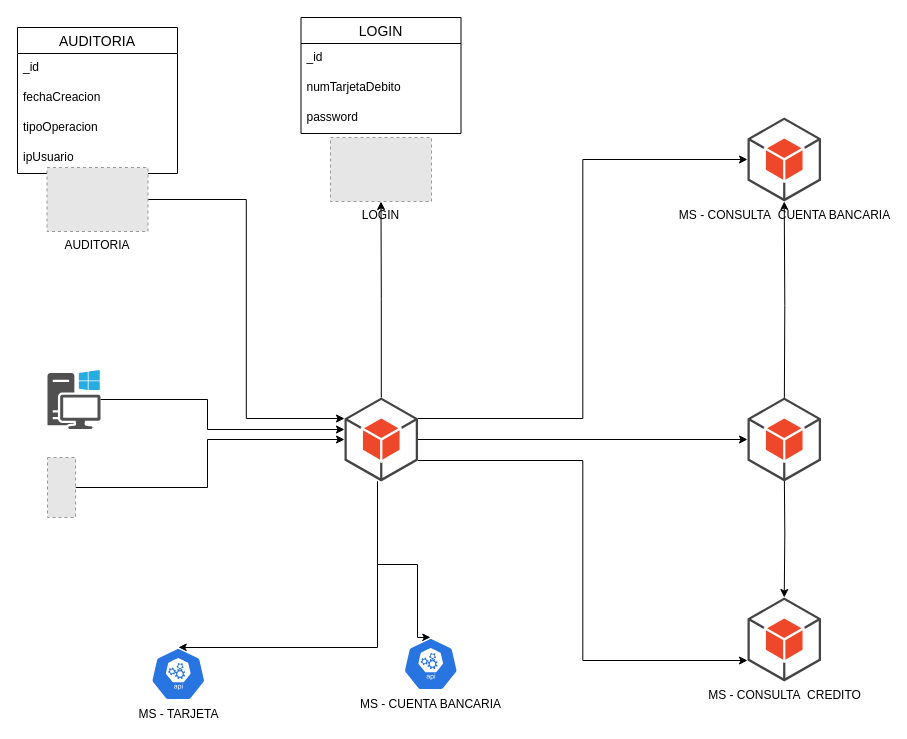
Image size: 907x739. Some labels were removed from this diagram. Grey dashed boxes stand in for pictures. The shapes that lost their labels are listed below. From the top down, each one's centre as x and y in pixels, then its label:
(x=381, y=439): MS - LOGIN
(x=783, y=439): MS - CLIENTE
